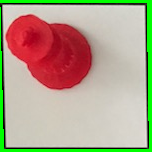Red King: (5, 10, 93, 92)
